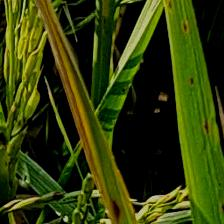2 BacterialBlight: (32, 3, 123, 195)
